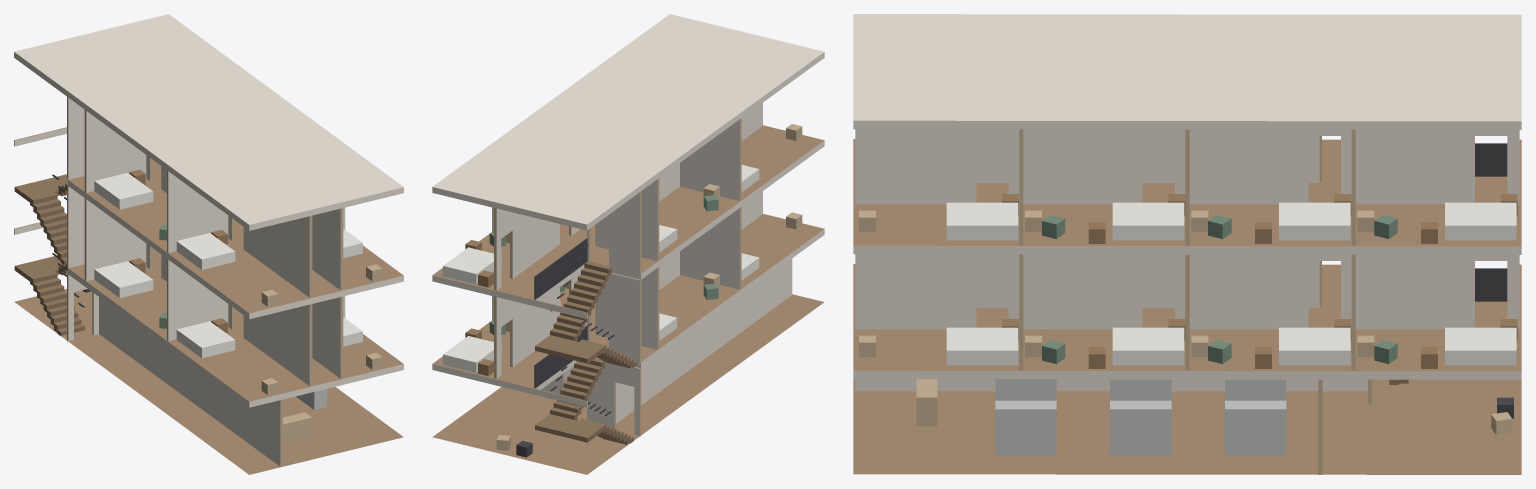
File: interior.glb
The picture shows the model from 3 angles, left to right: view 1: azimuth 30°, elevation 25°; view 2: azimuth 150°, elevation 25°; view 3: azimuth 270°, elevation 25°; orthographic projection. The views are drawn at different scales.
Parts seen in each view (by area): view 1: slabs, partitions, stair, coarse-s2, coarse-s1, coarse-s0; view 2: slabs, partitions, stair, coarse-s1, coarse-s2, coarse-s0; view 3: slabs, partitions, coarse-s1, coarse-s2, coarse-s0, stair.
Boxes of the visible parts, x1,y1,x2,y2 form: slabs: [14, 14, 403, 474]; partitions: [67, 97, 345, 466]; stair: [14, 174, 84, 336]; coarse-s2: [94, 169, 382, 306]; coarse-s1: [94, 258, 382, 395]; coarse-s0: [82, 289, 326, 444]; slabs: [432, 14, 824, 474]; partitions: [492, 103, 792, 436]; stair: [534, 238, 637, 444]; coarse-s1: [443, 212, 802, 375]; coarse-s2: [443, 124, 802, 287]; coarse-s0: [496, 366, 573, 457]; slabs: [853, 14, 1521, 474]; partitions: [855, 129, 1519, 474]; coarse-s1: [859, 319, 1517, 368]; coarse-s2: [859, 194, 1517, 243]; coarse-s0: [916, 379, 1513, 455]; stair: [1389, 143, 1507, 384].
Bounding box in the file's own units: 7.08 × 10.88 × 18.6.
